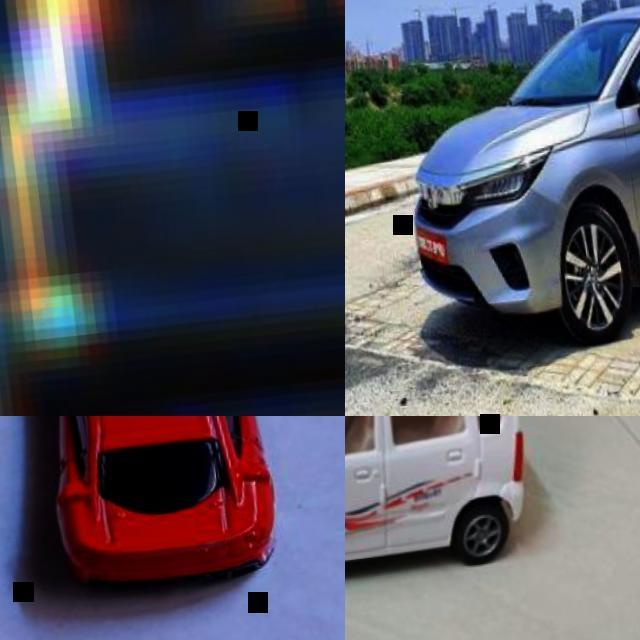car: (415, 0, 639, 344), (13, 420, 274, 587), (346, 419, 526, 566)
